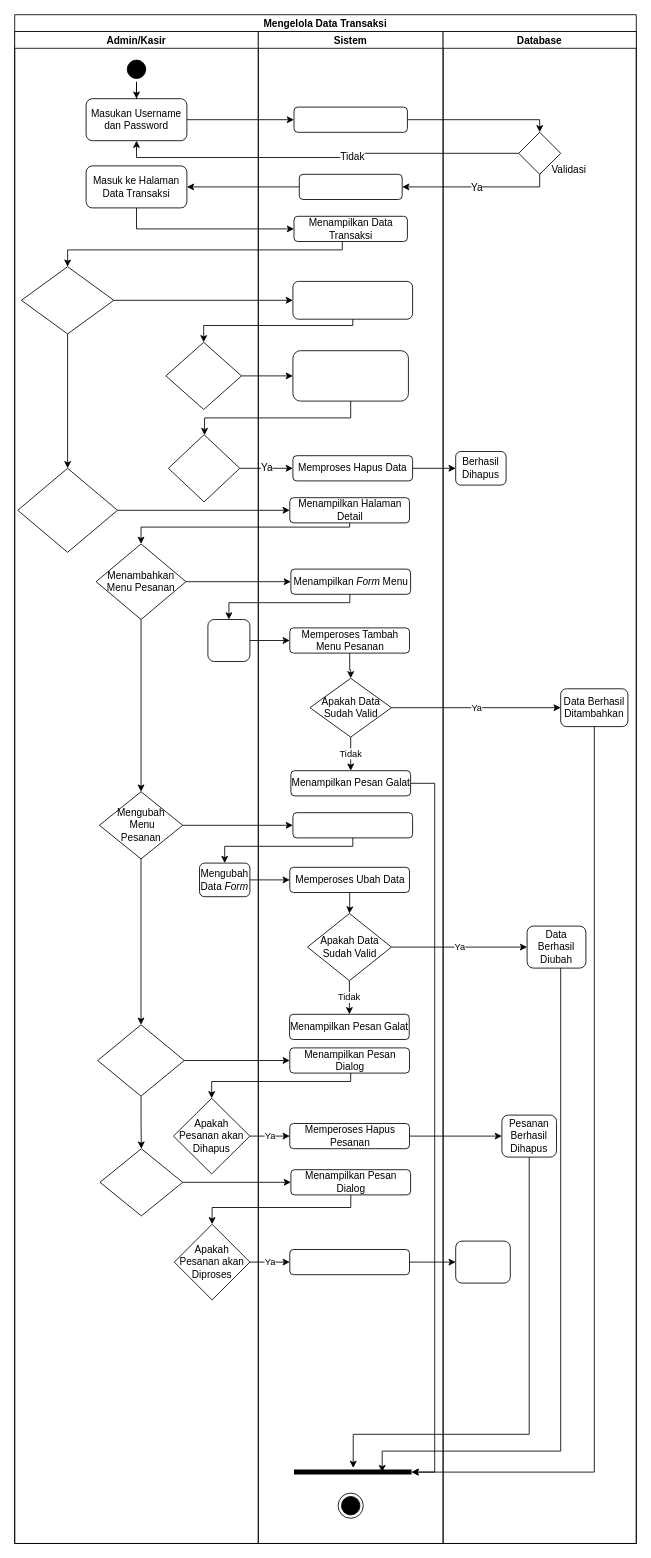
This 651x1558 diagram has some shape labels left out. Each missing label, with the centre of its shape:
Apakah akan Dihapus?: point (203, 375)
Beranda: point (350, 186)
Memperoses Pesanan: point (141, 1182)
Memperoses Username dan Password: point (350, 119)
Menampilkan Dialog Pesan Hapus Data Berdasarkan ID: point (350, 375)
Menampilkan Dialog Pesan Menghapus Transaksi: point (352, 300)
Menampilkan Form Menu Berdasarkan ID: point (352, 825)
Mengakses Pesanan Keranjang: point (67, 300)
Mengakses Pesanan Menunggu Komfirmasi: point (67, 509)
Menghapus Data: point (204, 468)
Menghapus Menu Pesanan: point (140, 1060)
Mengisi Form: point (228, 640)
Pesanan Berhasil Diproses: point (482, 1261)
Pesanan Diproses: point (349, 1262)
